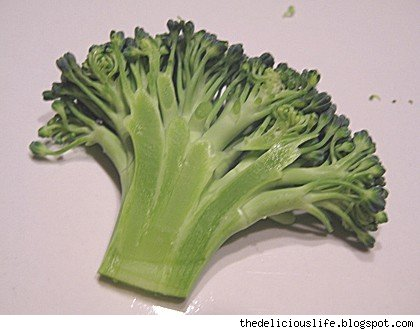broccoli: (28, 20, 390, 301)
